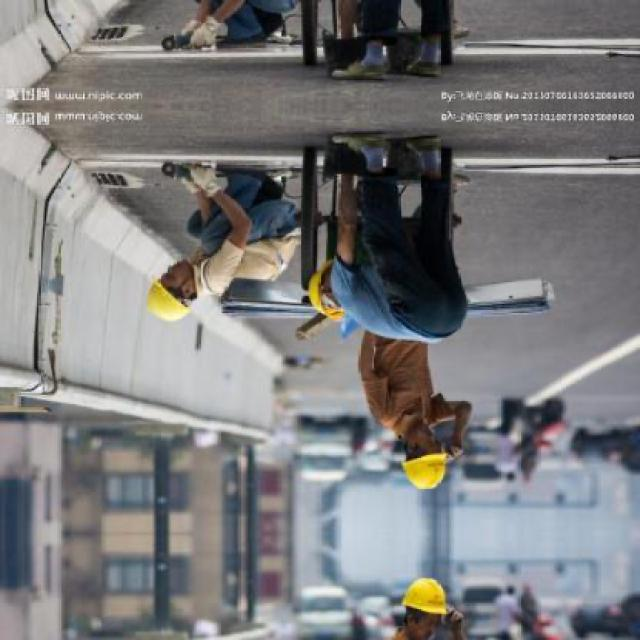con casco: (118, 244, 220, 348), (379, 386, 467, 494), (296, 257, 352, 329)
